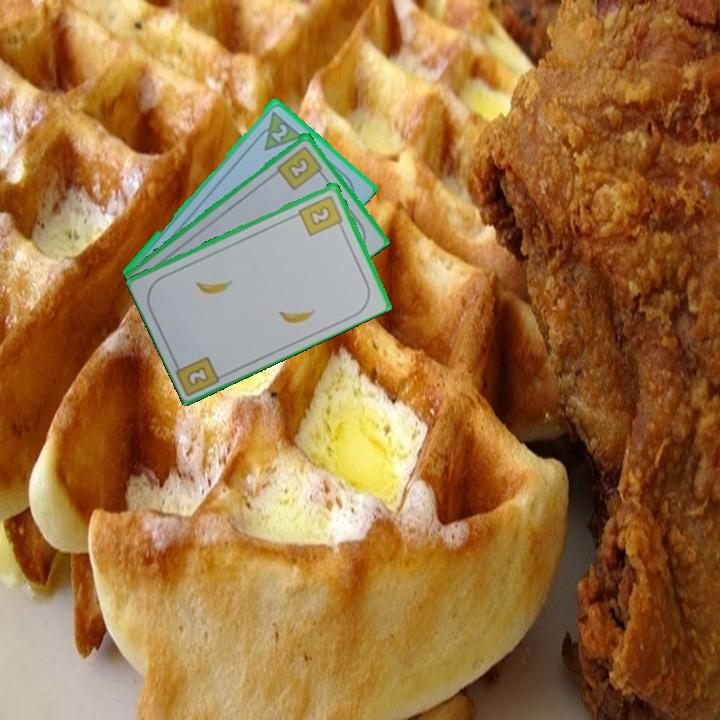2b: (273, 142, 327, 193), (295, 191, 346, 239), (183, 363, 212, 389)
2p: (267, 120, 290, 144)
